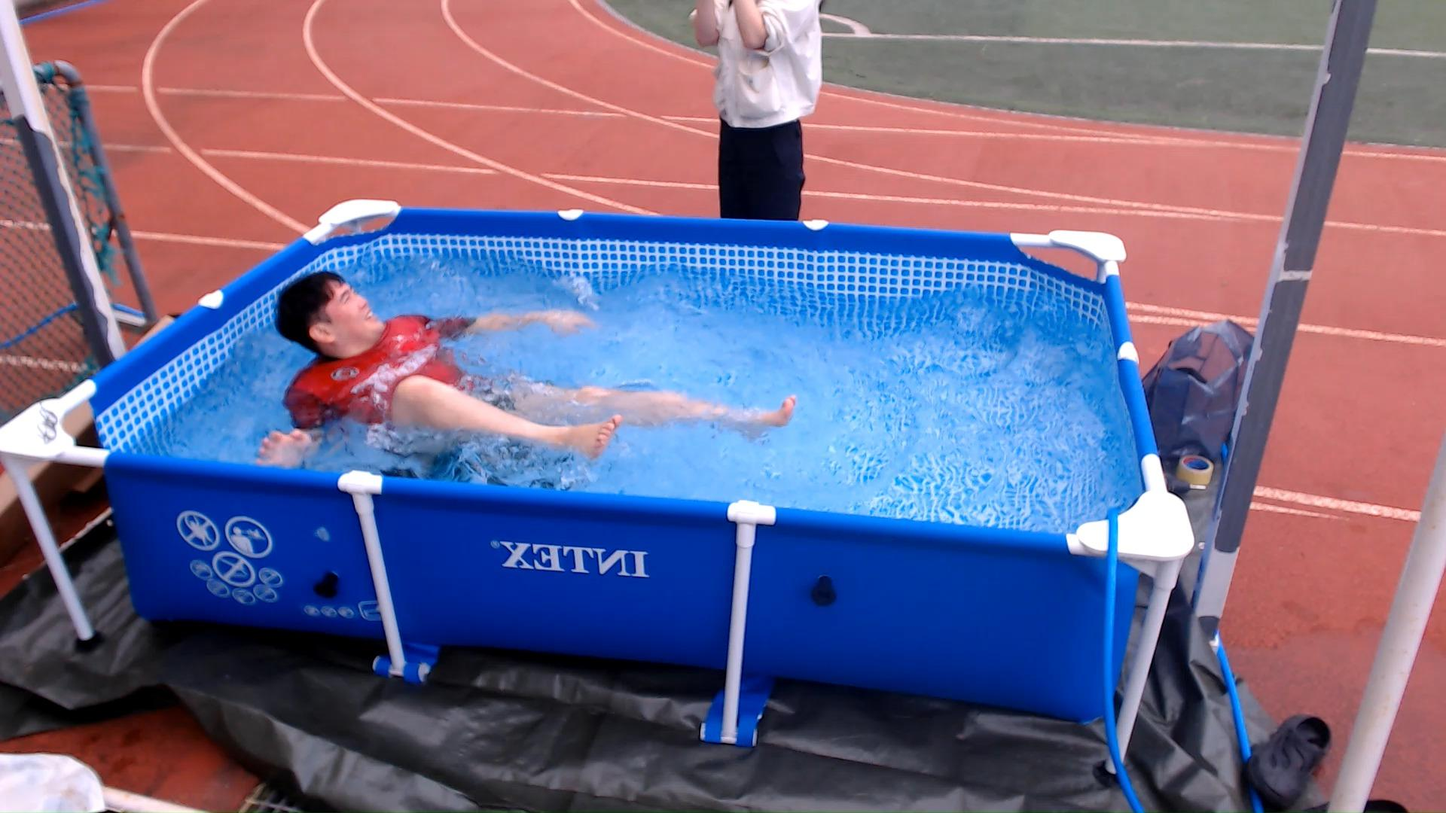Drowning: (230, 244, 846, 508)
Person-out-of-water: (682, 0, 849, 238)
